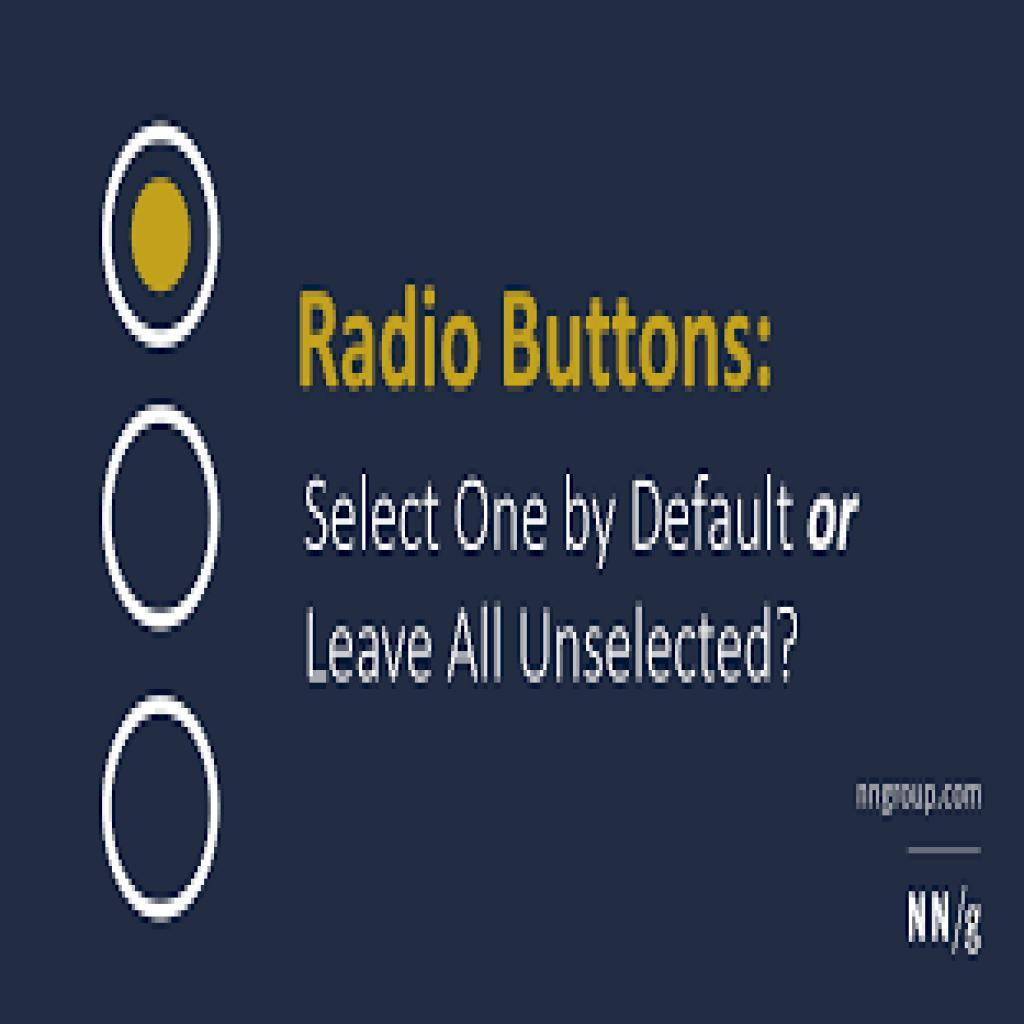radio: (93, 122, 222, 355), (101, 403, 224, 636), (96, 696, 219, 926)
